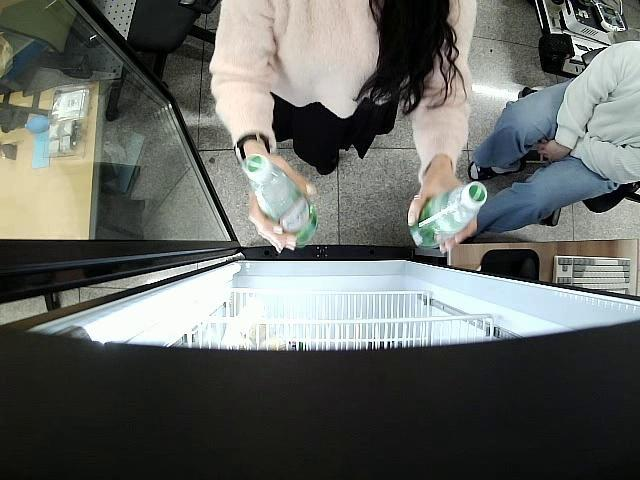18_trevi: (244, 154, 317, 249), (410, 183, 485, 252)
